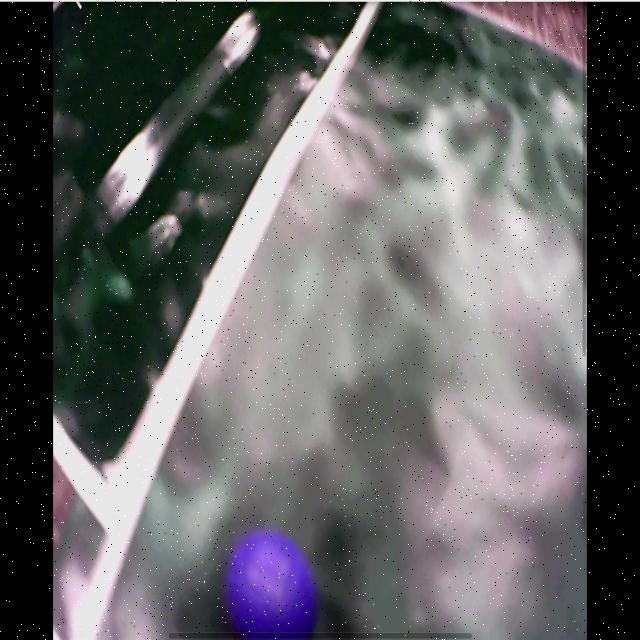ball: (228, 538, 316, 636)
